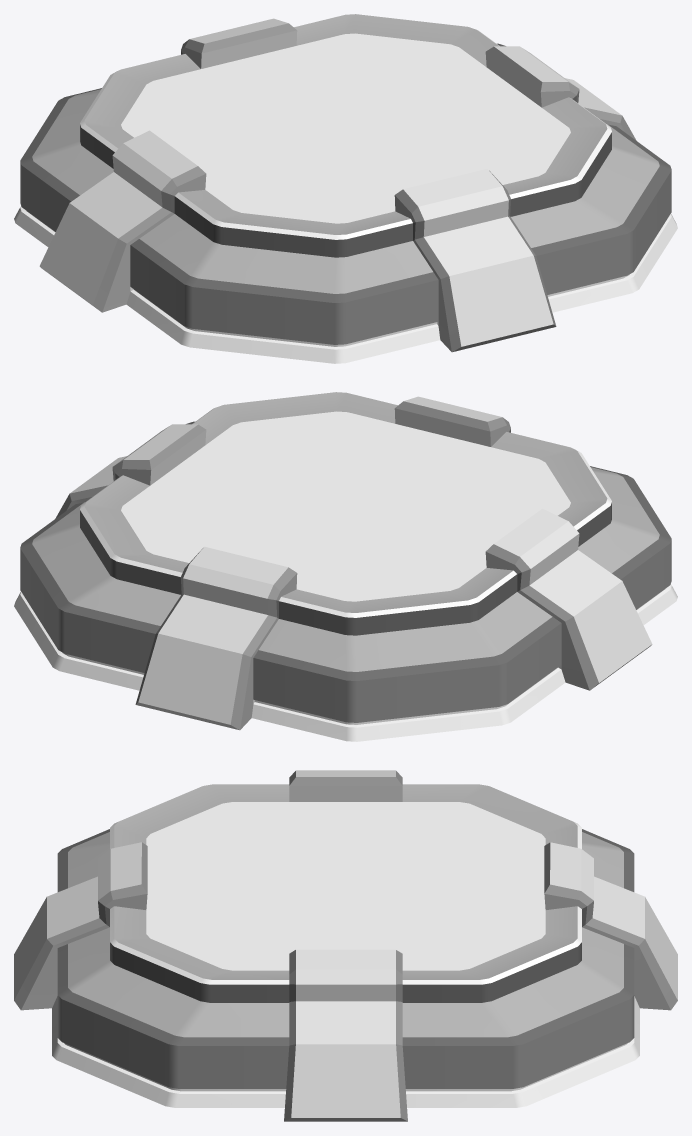
3 views of the same model, one above another, from view 1: azimuth 30°, elevation 25°; view 2: azimuth 150°, elevation 25°; view 3: azimuth 270°, elevation 25° (orthographic). The views are drawn at different scales.
Parts seen in each view (by area): view 1: base; view 2: base; view 3: base.
Part boxes in pixels (x1,y1,x2,y2): base: (14, 14, 677, 363); base: (14, 392, 677, 741); base: (14, 770, 677, 1121).
Bounding box in the file's own units: 9.26 × 1.86 × 9.26.
Materials: 1 (1 with a texture image).
